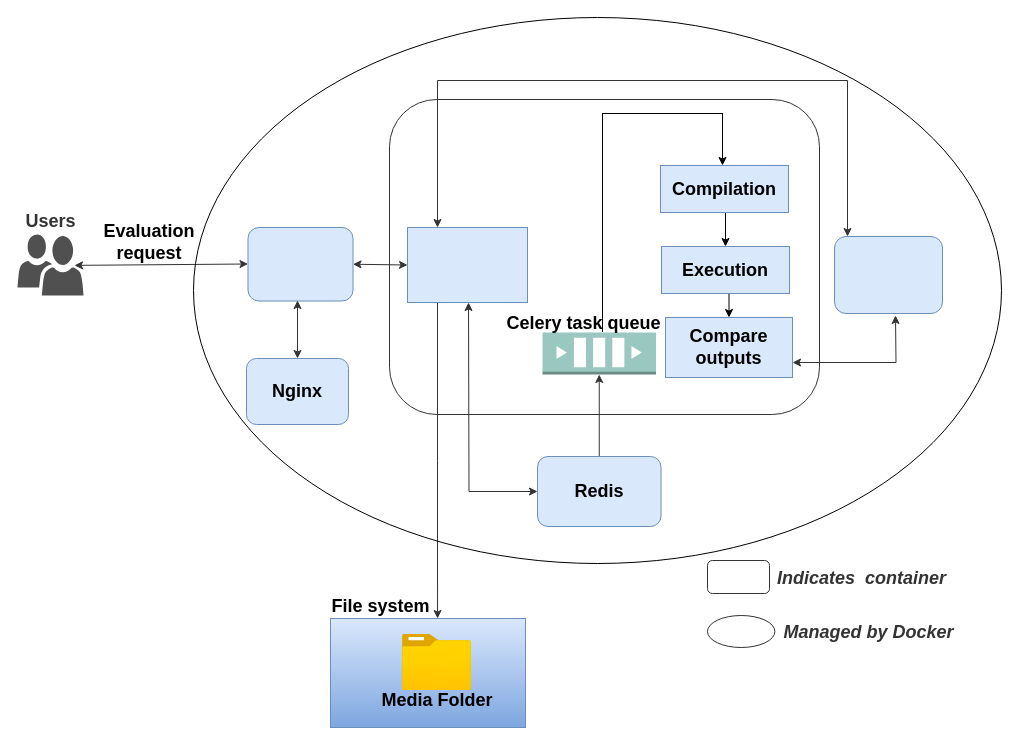
Image size: 1019x745. Some labels were removed from this diagram. The centre of each missing label's shape, as x and y in pixels:
HAProxy: point (300, 263)
Postgres Db: point (888, 275)
WSGI: point (467, 264)
